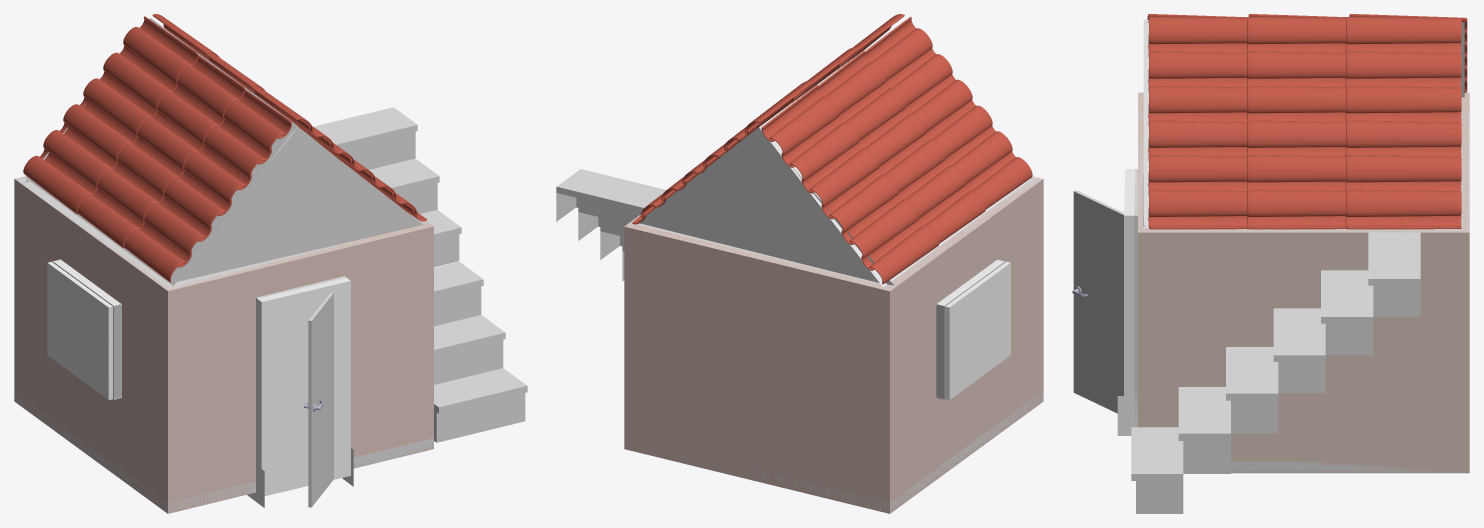
Rendered from JoeyBattilega'sHouse.fbx.
3 renders of one model, left to right at view 1: azimuth 30°, elevation 25°; view 2: azimuth 150°, elevation 25°; view 3: azimuth 270°, elevation 25°, orthographic. The views are drawn at different scales.
Parts seen in each view (by area): view 1: Room, Roof, Plane.002, CTRL_Hole, Stairs, Stairs.001, CTRL_Hole.001, Door, Roof.001, Baseboard, Ceiling, Plane.001 (+1 smaller); view 2: Room, Roof, Plane.003, CTRL_Hole.001, Stairs.001, Roof.001, Ceiling, Baseboard, Plane.001, WindowFrame; view 3: Roof.001, Room, Stairs, Stairs.001, Door, CTRL_Hole, Ceiling, Baseboard, Plane, Roof, DoorFrame, CTRL_Baseboard.
Boxes of the visible parts, x1,y1,x2,y2 form: Room: (14, 176, 433, 513); Roof: (23, 16, 291, 282); Plane.002: (173, 127, 422, 282); CTRL_Hole: (256, 277, 350, 495); Stairs: (434, 261, 527, 442); Stairs.001: (313, 107, 461, 267); CTRL_Hole.001: (47, 259, 121, 399); Door: (308, 293, 333, 507); Roof.001: (152, 14, 426, 221); Baseboard: (14, 391, 433, 513); Ceiling: (14, 132, 432, 290); Plane.001: (26, 18, 297, 285); Room: (624, 176, 1043, 513); Roof: (761, 17, 1032, 284); Plane.003: (639, 127, 893, 285); CTRL_Hole.001: (937, 259, 1010, 399); Stairs.001: (556, 169, 665, 259); Roof.001: (632, 14, 904, 224); Ceiling: (627, 176, 1041, 290); Baseboard: (624, 391, 1043, 513); Plane.001: (759, 19, 1030, 287); WindowFrame: (936, 259, 1006, 399); Roof.001: (1148, 17, 1461, 229); Room: (1138, 92, 1469, 473); Stairs: (1131, 347, 1278, 513); Stairs.001: (1273, 232, 1420, 393); Door: (1073, 190, 1123, 413); CTRL_Hole: (1124, 169, 1135, 395); Ceiling: (1138, 92, 1469, 232); Baseboard: (1231, 461, 1467, 473); Plane: (1143, 19, 1148, 227); Roof: (1147, 14, 1467, 92); DoorFrame: (1134, 169, 1137, 425); CTRL_Baseboard: (1117, 396, 1137, 435).
Bounding box in the file's own units: 417 × 396 × 359.
